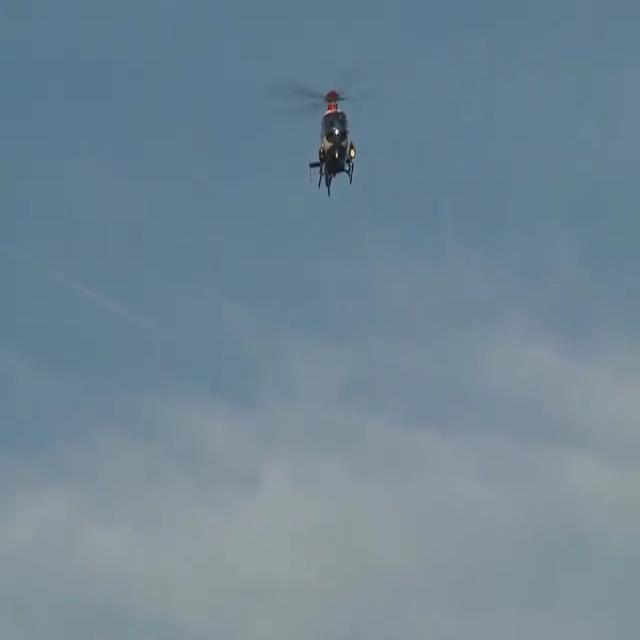Helicopter: (280, 71, 398, 190)
